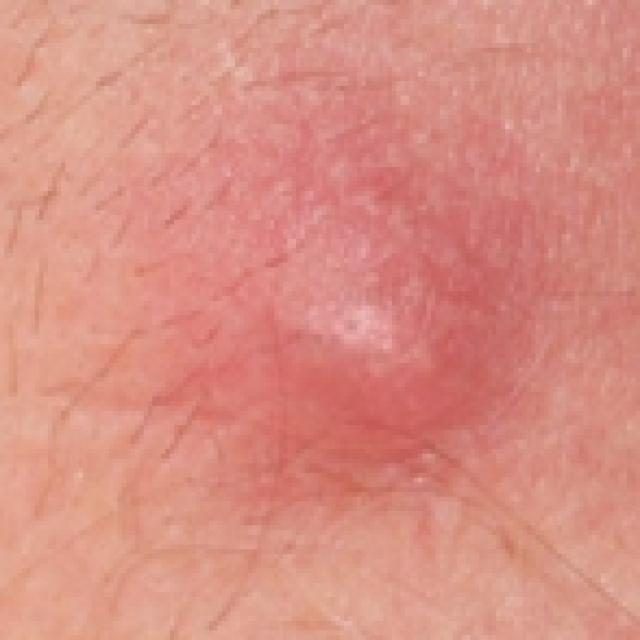nodule: (268, 268, 487, 442)
